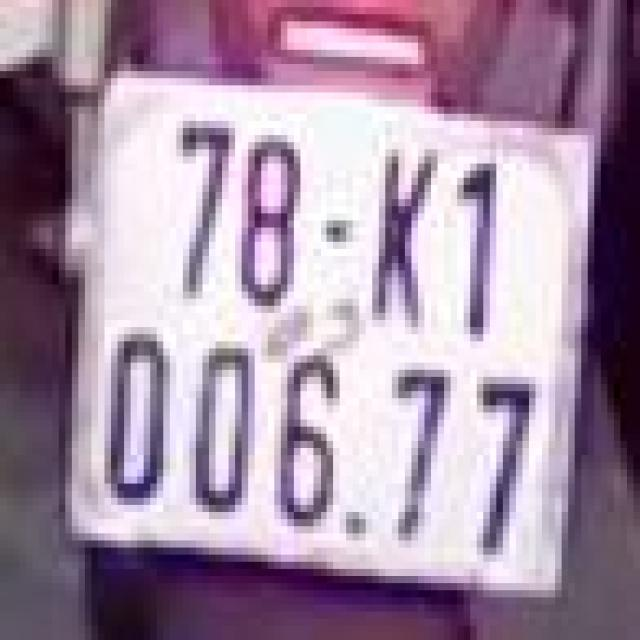0: (82, 316, 180, 508), (186, 320, 258, 533)
1: (457, 150, 503, 342)
6: (271, 345, 349, 530)
7: (156, 110, 242, 310), (376, 356, 448, 554), (470, 366, 529, 558)
8: (238, 124, 310, 310)
K: (366, 124, 438, 330)
